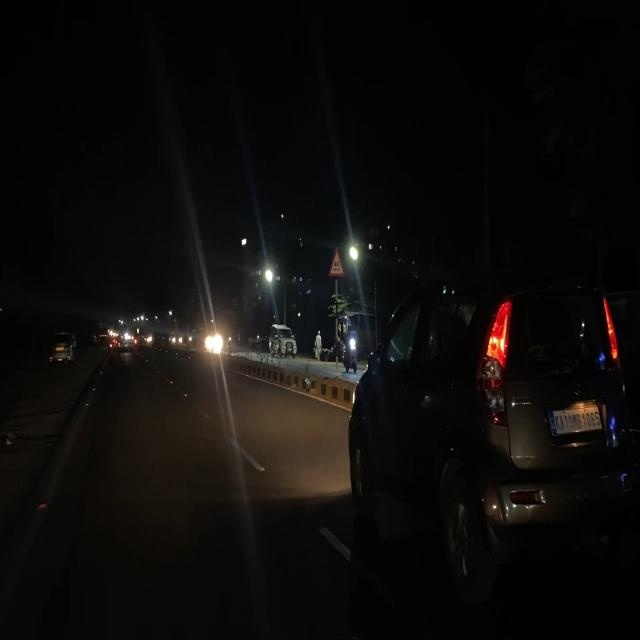bien_nguy_hiem: (327, 245, 346, 277)
